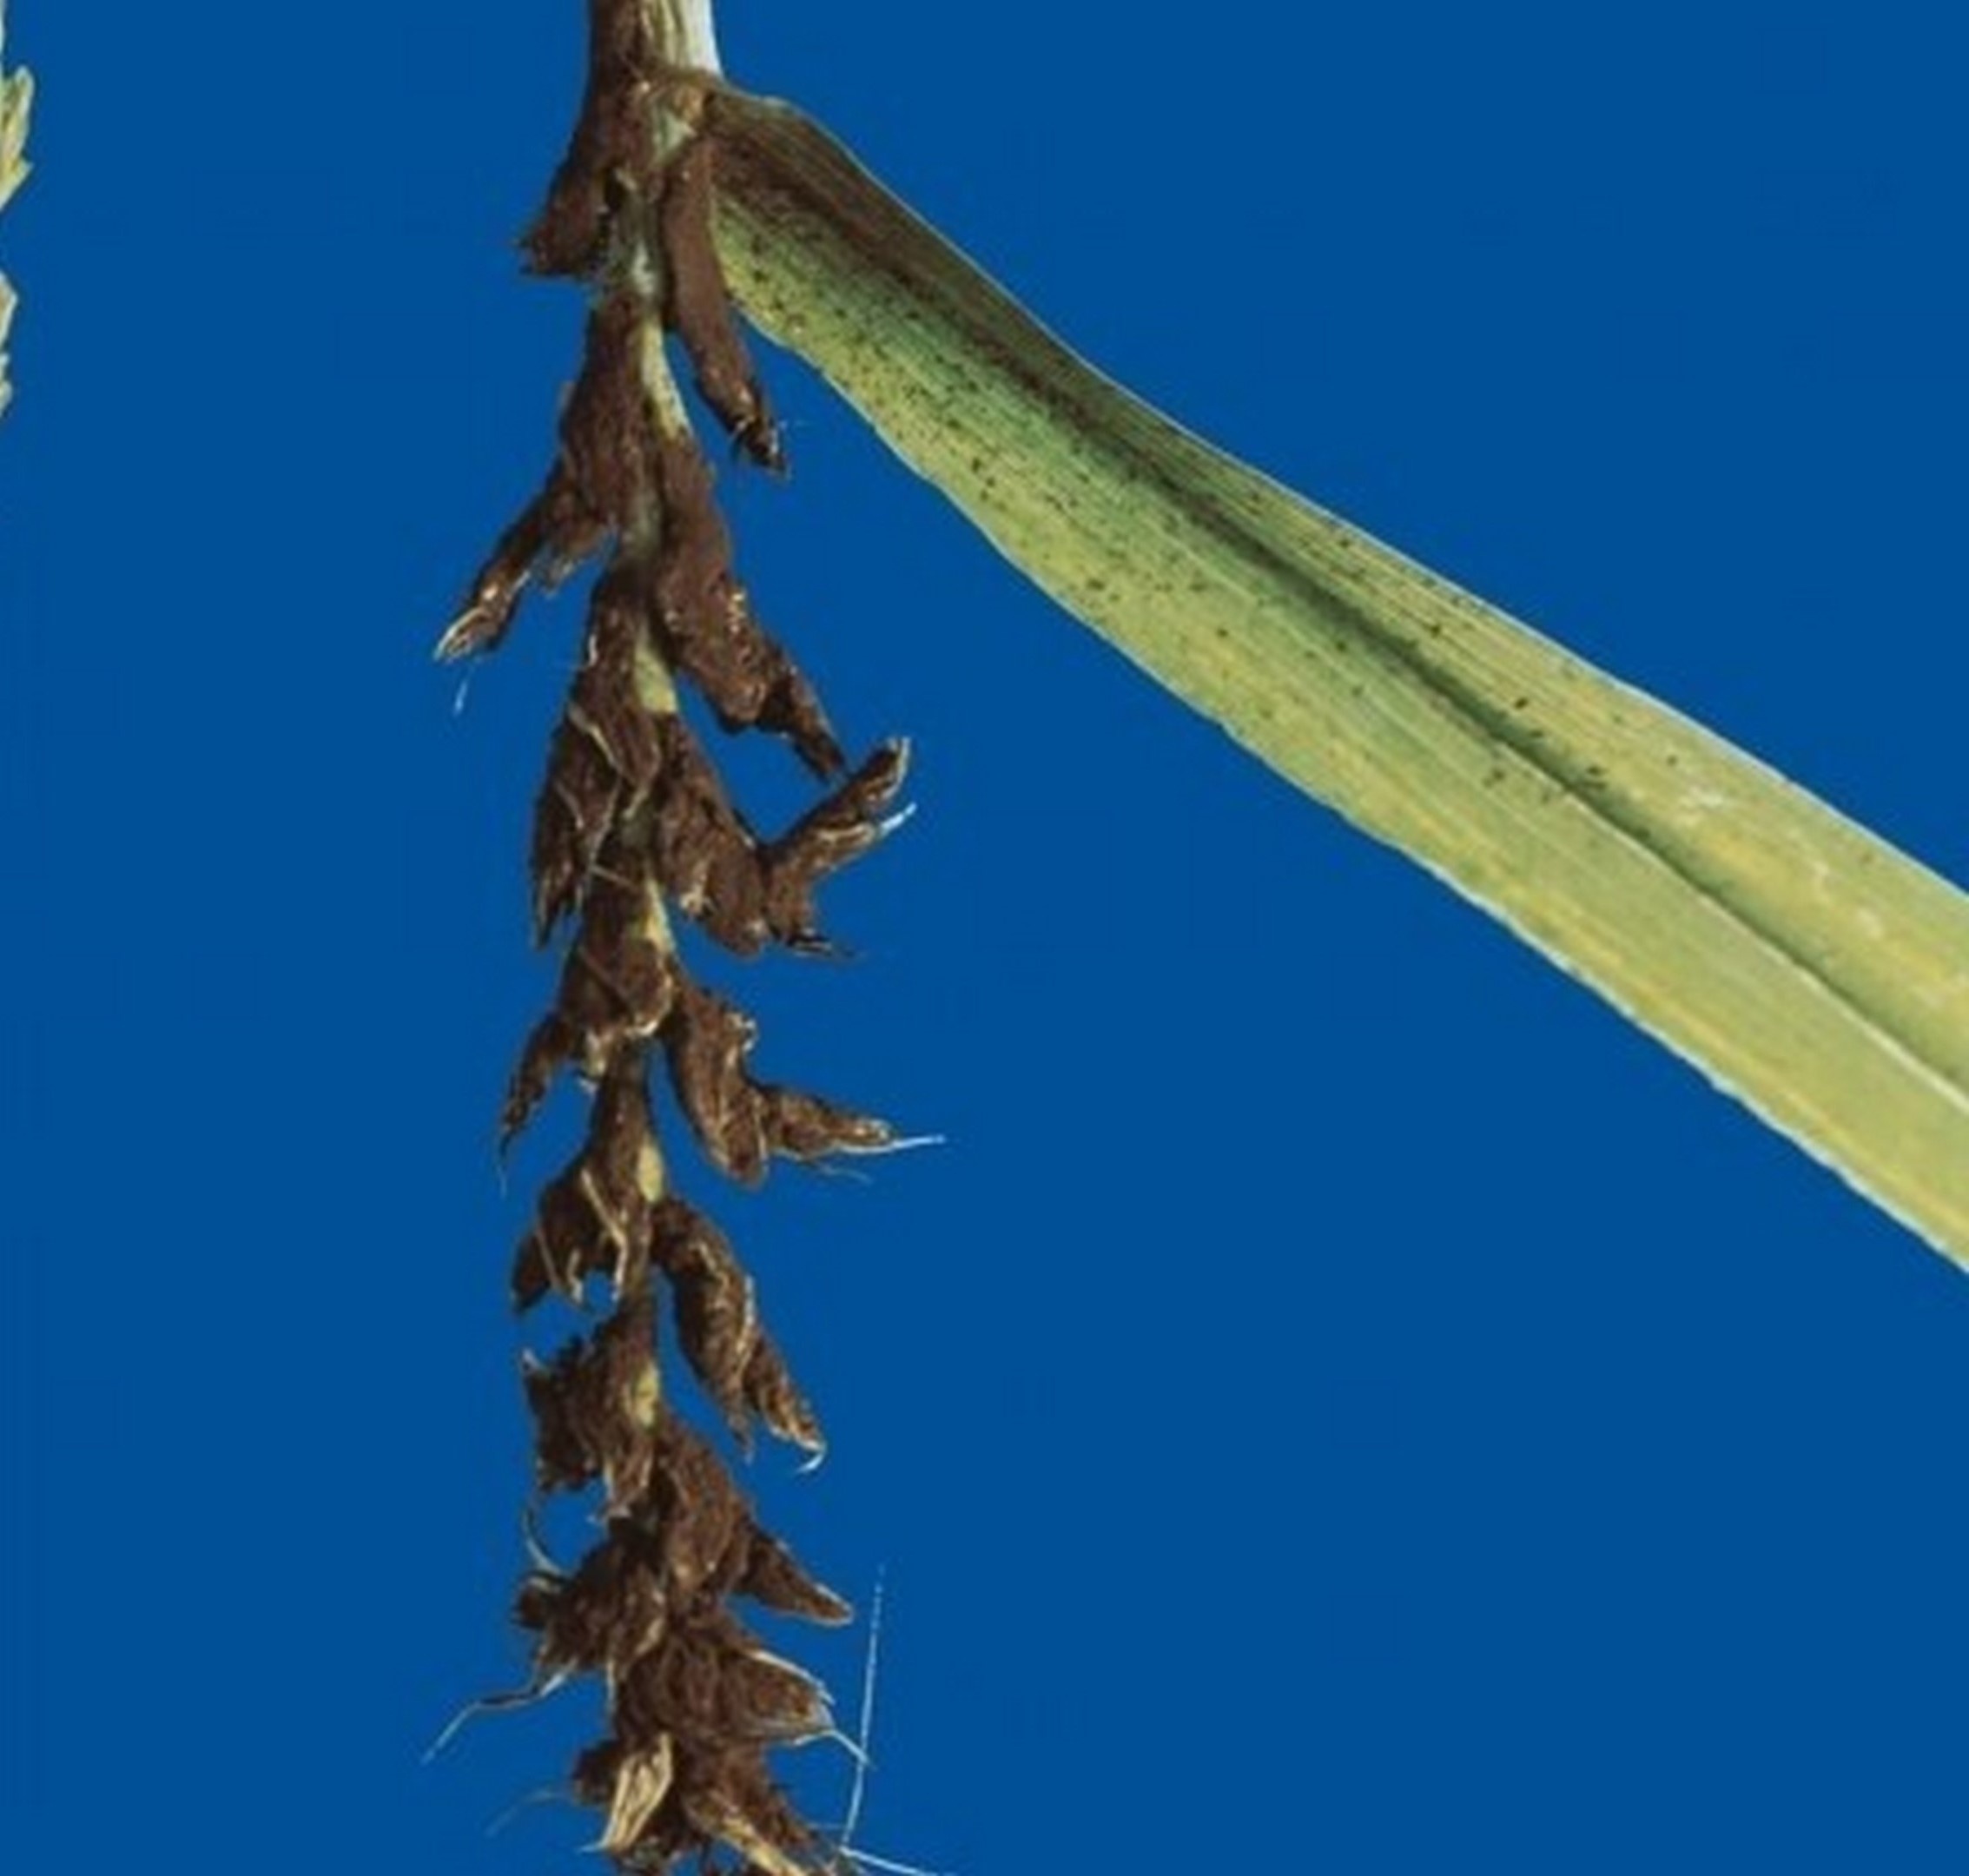Wheat Loose Smut: (385, 207, 1023, 1855)
